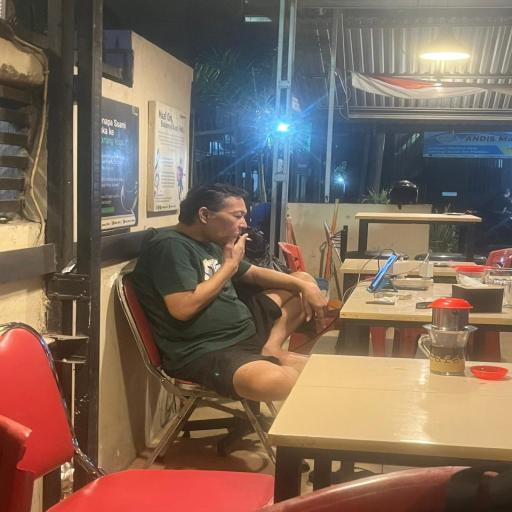merokok: (210, 210, 267, 263)
